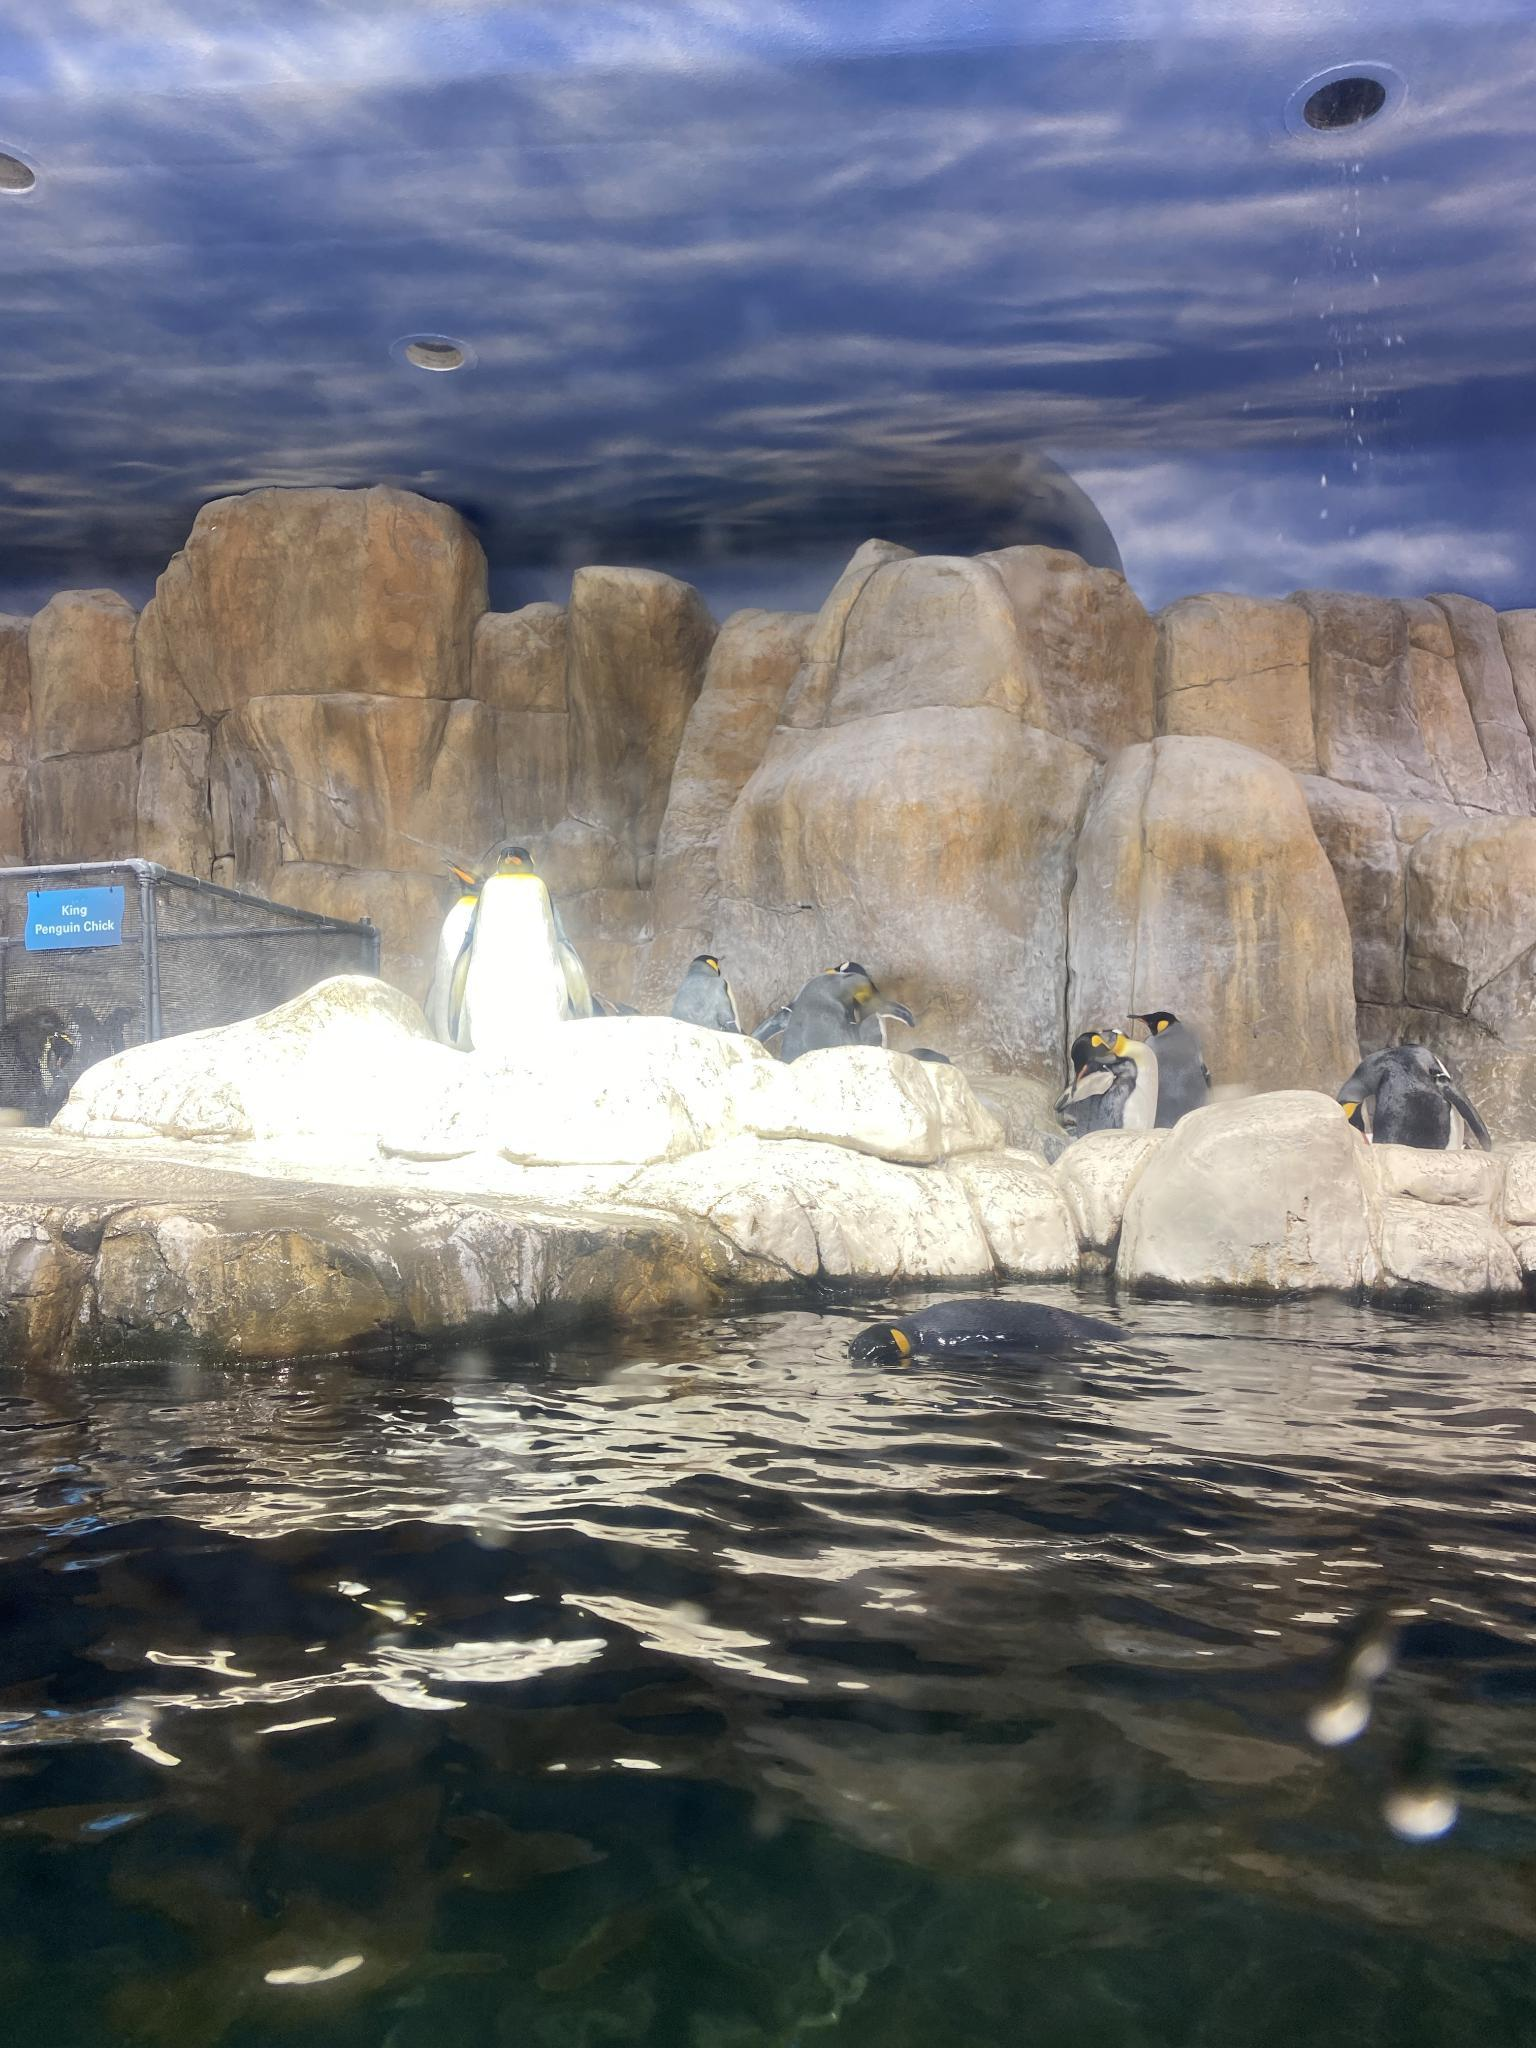penguin: (452, 843, 592, 1058), (849, 1295, 1133, 1364), (1338, 1040, 1489, 1161), (1125, 1006, 1208, 1134), (432, 855, 487, 1047), (1063, 1030, 1157, 1132), (0, 1005, 77, 1124), (755, 971, 845, 1068), (836, 950, 912, 1051), (670, 953, 745, 1037), (103, 1003, 140, 1061), (74, 992, 105, 1059)
